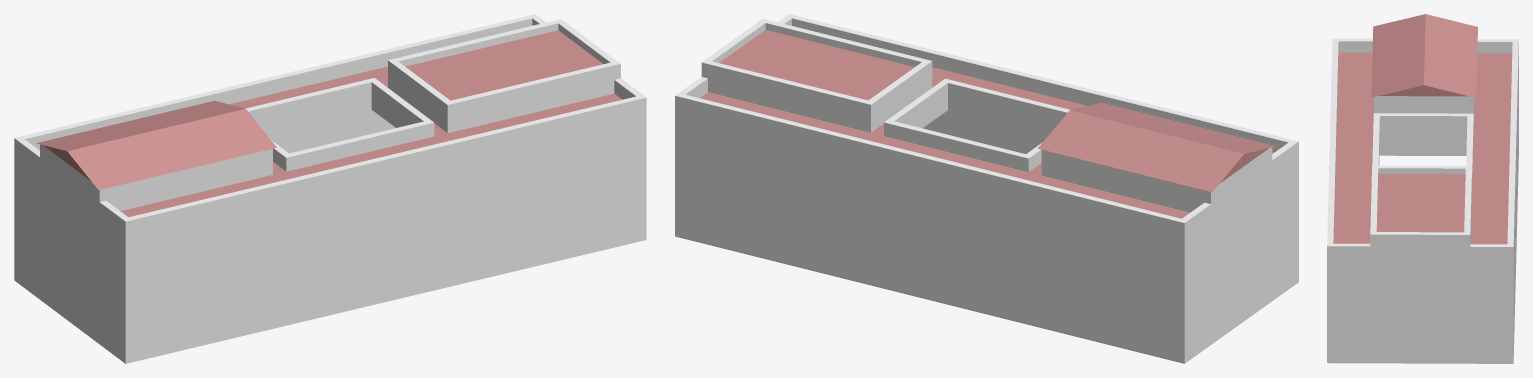
File: LOD_Block_3_23.glb
3 views of the same model, side by side, from view 1: azimuth 30°, elevation 25°; view 2: azimuth 150°, elevation 25°; view 3: azimuth 270°, elevation 25° (orthographic). The views are drawn at different scales.
Parts seen in each view (by area): view 1: mesh_CityEngineMaterial_462; view 2: mesh_CityEngineMaterial_462; view 3: mesh_CityEngineMaterial_462.
Part boxes in pixels (bbox=[...]): mesh_CityEngineMaterial_462: bbox=[14, 14, 646, 363]; mesh_CityEngineMaterial_462: bbox=[675, 14, 1298, 363]; mesh_CityEngineMaterial_462: bbox=[1327, 14, 1518, 363].
Bounding box in the file's own units: 39.66 × 12.45 × 15.36.
